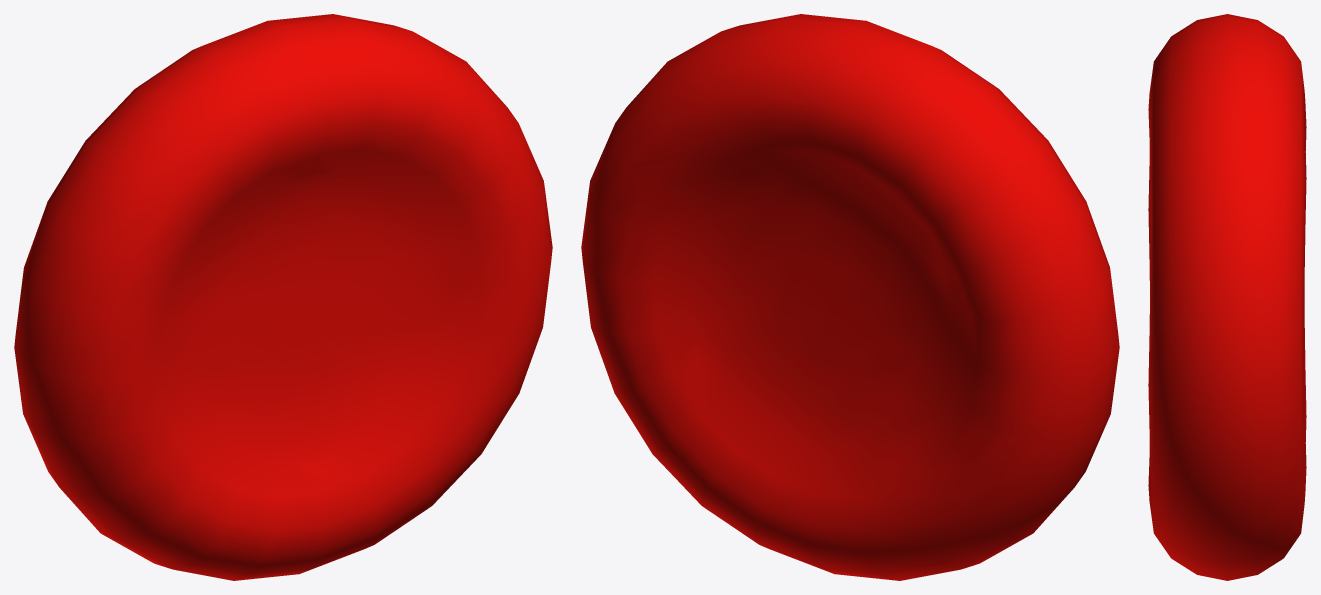
The model's file is Bloodcell.glb.
3 renders of one model, left to right at view 1: azimuth 30°, elevation 25°; view 2: azimuth 150°, elevation 25°; view 3: azimuth 270°, elevation 25°, orthographic. The views are drawn at different scales.
Parts seen in each view (by area): view 1: BloodCell_geometry; view 2: BloodCell_geometry; view 3: BloodCell_geometry.
Boxes of the visible parts, box(x1,y1,x2,y2) form: BloodCell_geometry: box(14, 14, 552, 580); BloodCell_geometry: box(581, 14, 1119, 580); BloodCell_geometry: box(1148, 14, 1306, 580).
Size of the model in its own units: 2.65 by 2.65 by 0.7358.
